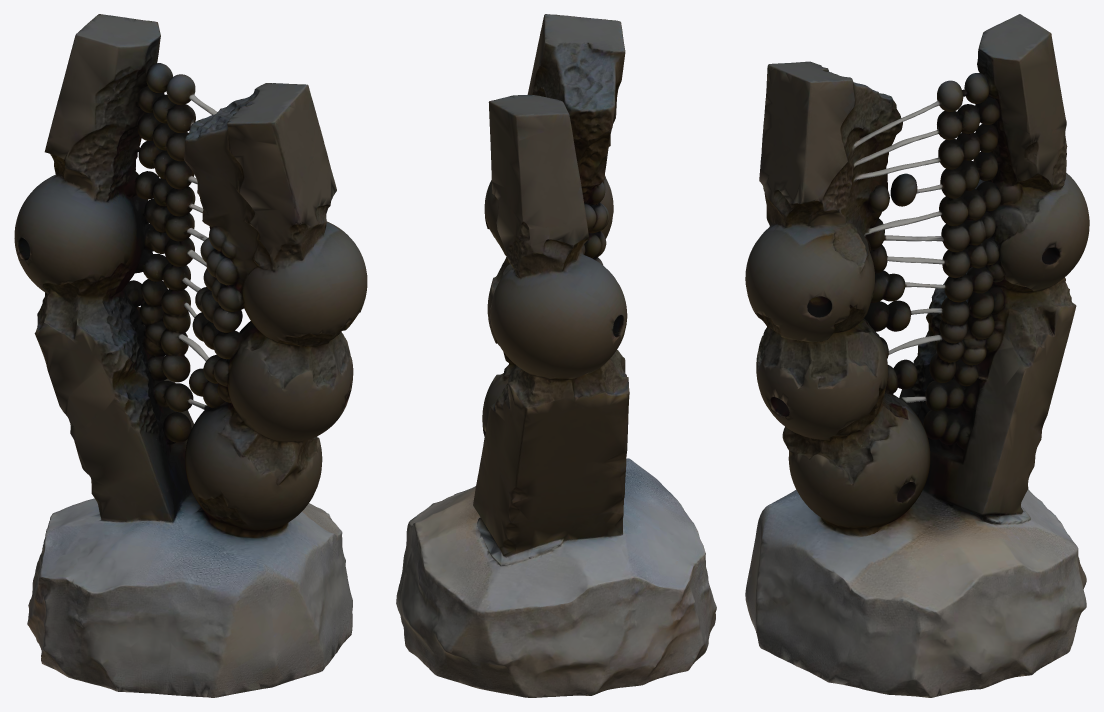
The model's file is accounting-cenotaph-medium.glb.
The picture shows the model from 3 angles, left to right: view 1: azimuth 30°, elevation 25°; view 2: azimuth 150°, elevation 25°; view 3: azimuth 270°, elevation 25°; orthographic projection. The views are drawn at different scales.
Parts seen in each view (by area): view 1: tripo_node_cbad385c-4ec7-41cf-9f0c-e6860750f56e; view 2: tripo_node_cbad385c-4ec7-41cf-9f0c-e6860750f56e; view 3: tripo_node_cbad385c-4ec7-41cf-9f0c-e6860750f56e.
Boxes of the visible parts, left/top/right/bottom form: tripo_node_cbad385c-4ec7-41cf-9f0c-e6860750f56e: left=14, top=14, right=367, bottom=697; tripo_node_cbad385c-4ec7-41cf-9f0c-e6860750f56e: left=396, top=14, right=716, bottom=697; tripo_node_cbad385c-4ec7-41cf-9f0c-e6860750f56e: left=745, top=14, right=1089, bottom=697.
Bounding box in the file's own units: 0.5354 × 0.9998 × 0.5331.
1 material, 1 textured.
